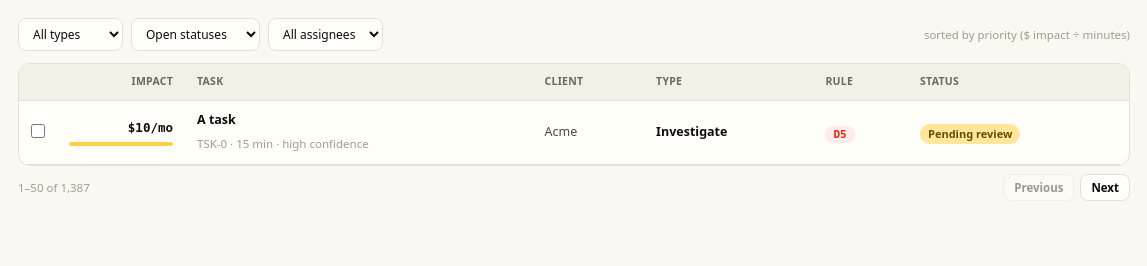
empty states › offers to clear filters when a filtered set has no matches
Expected: the text "1–50 of 1,387" is shown, [18,178,90,196]
Select "Budget" in the dropdown named "Filter by type": (70, 34) [18,18,123,51]
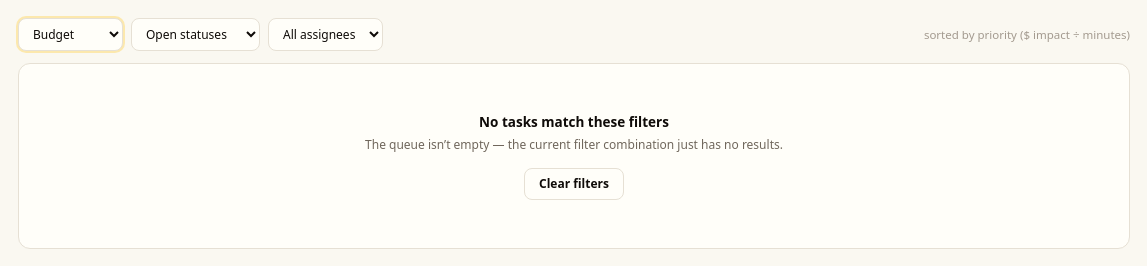
Expected: the text "No tasks match these filters" is shown, [479,113,669,131]
